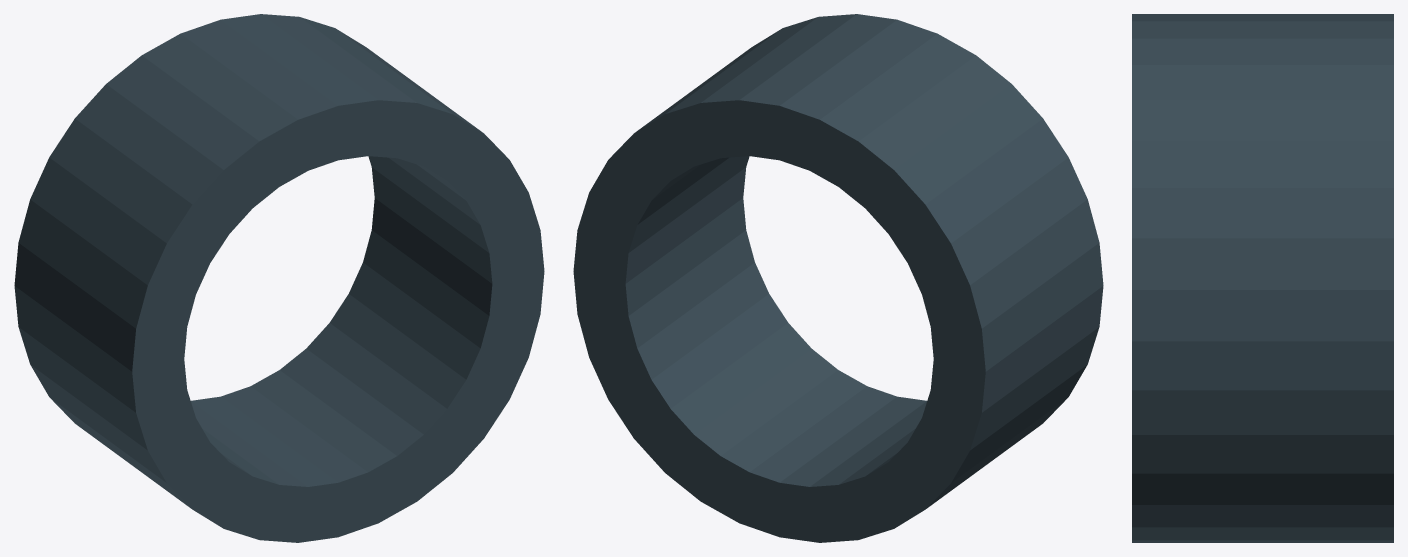
The model's file is thruster_duct.obj.
3 renders of one model, left to right at view 1: azimuth 30°, elevation 25°; view 2: azimuth 150°, elevation 25°; view 3: azimuth 270°, elevation 25°, orthographic. The views are drawn at different scales.
Size of the model in its own units: 0.182 by 0.182 by 0.09.
